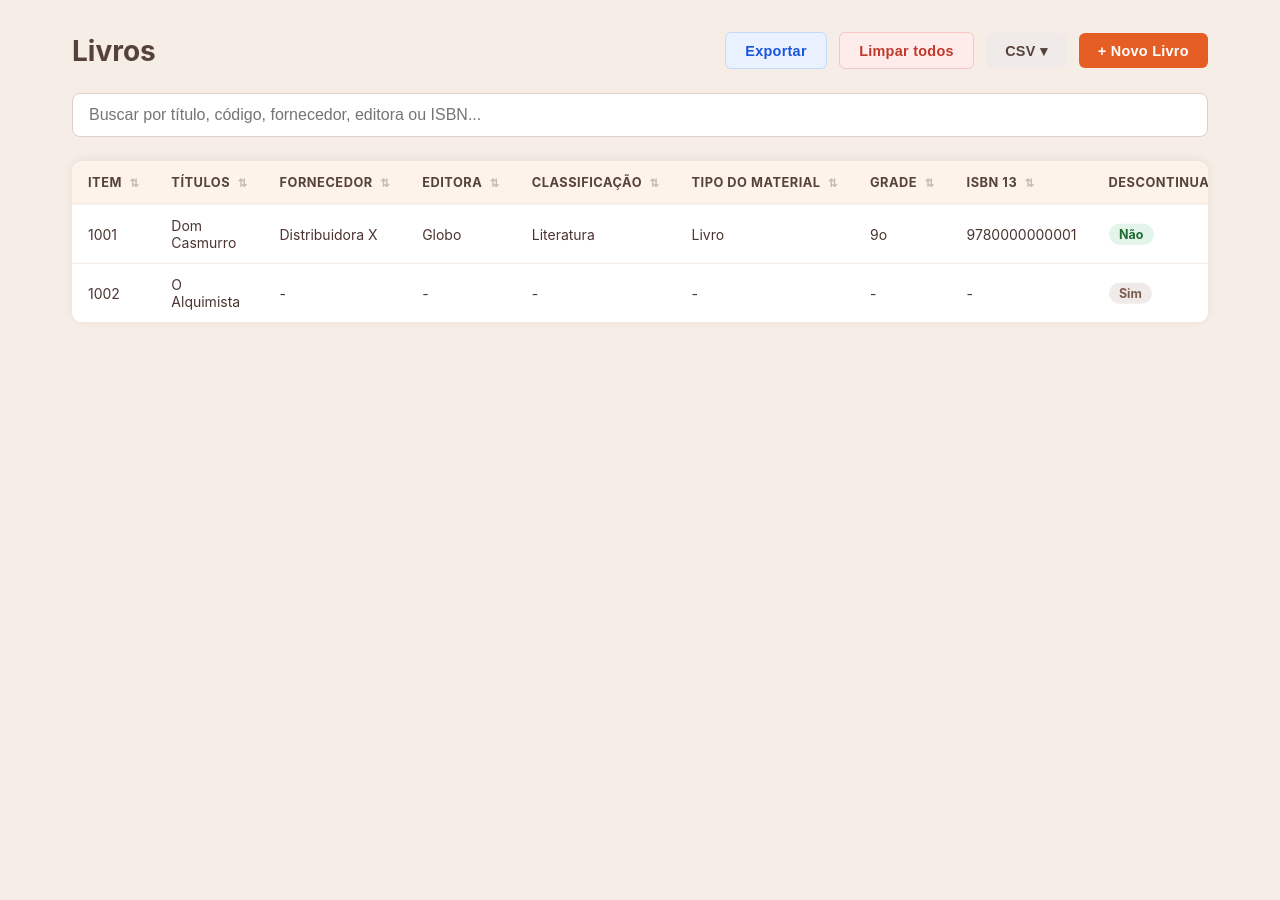
Test: Livros — exportação › fecha modal ao clicar no botão ✕
Click the button "Exportar".
click(776, 51)  # box [725,32,827,69]
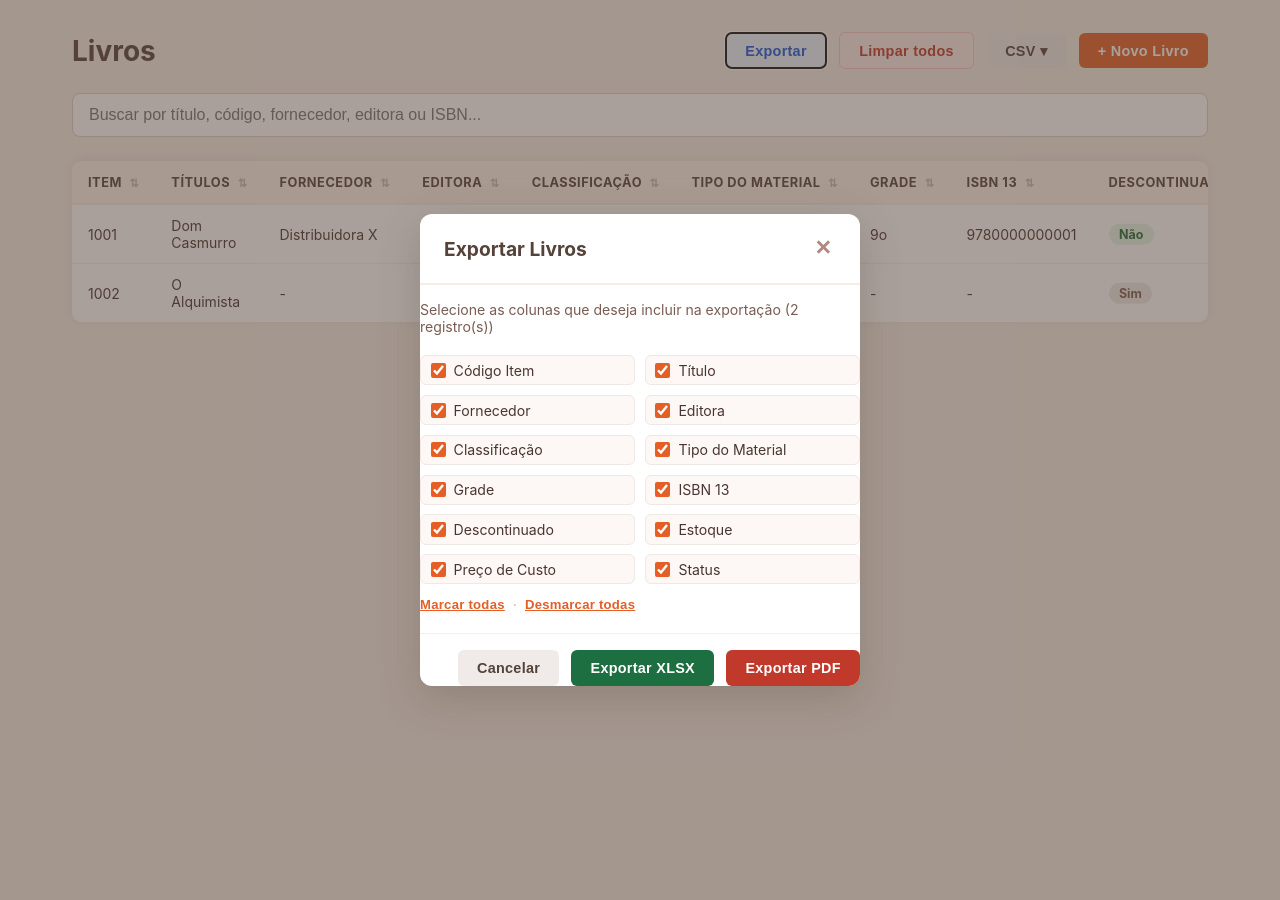
Click the button with class "btn-close".
click(823, 249)  # box [810,234,836,263]
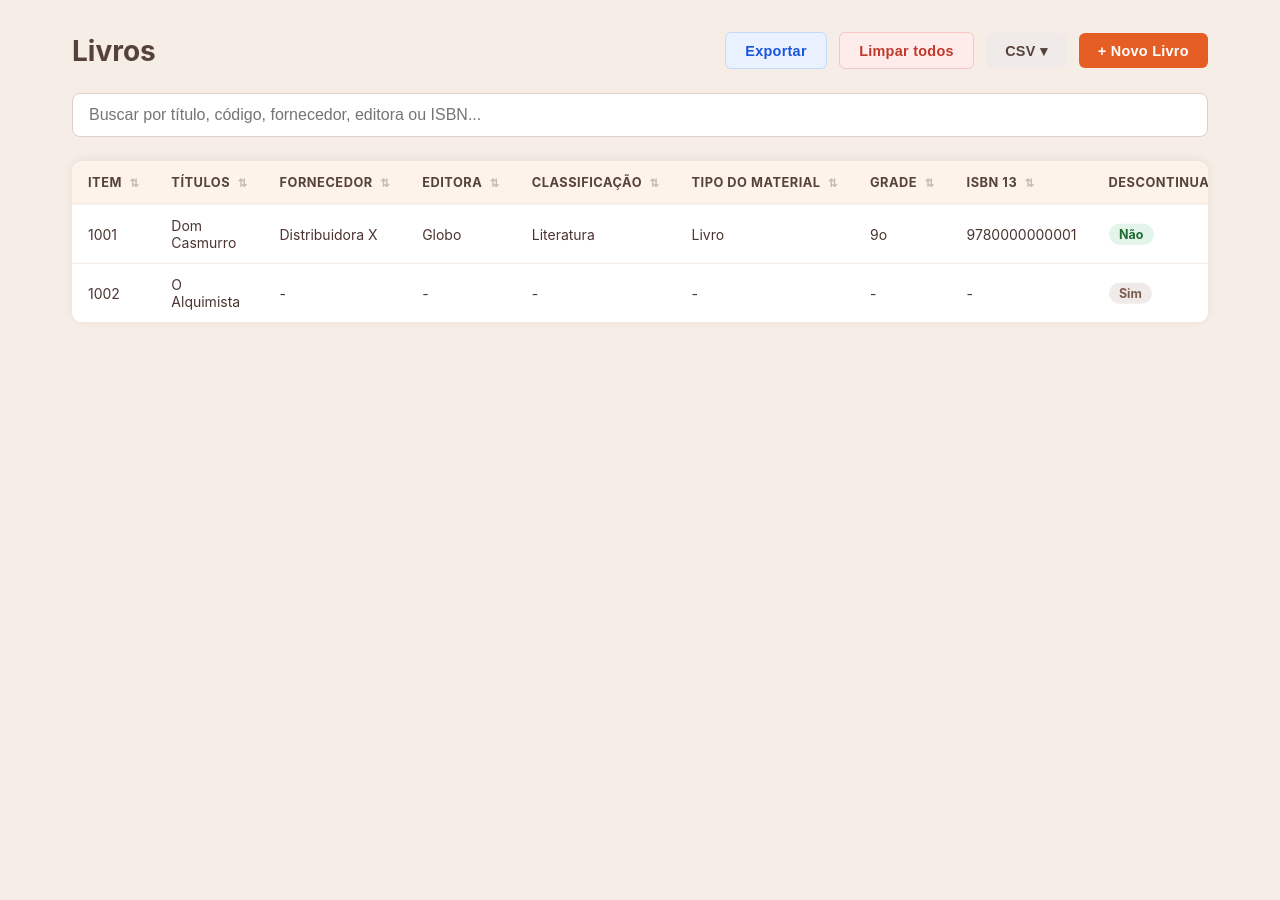
Now the heading "Exportar Livros" is gone
